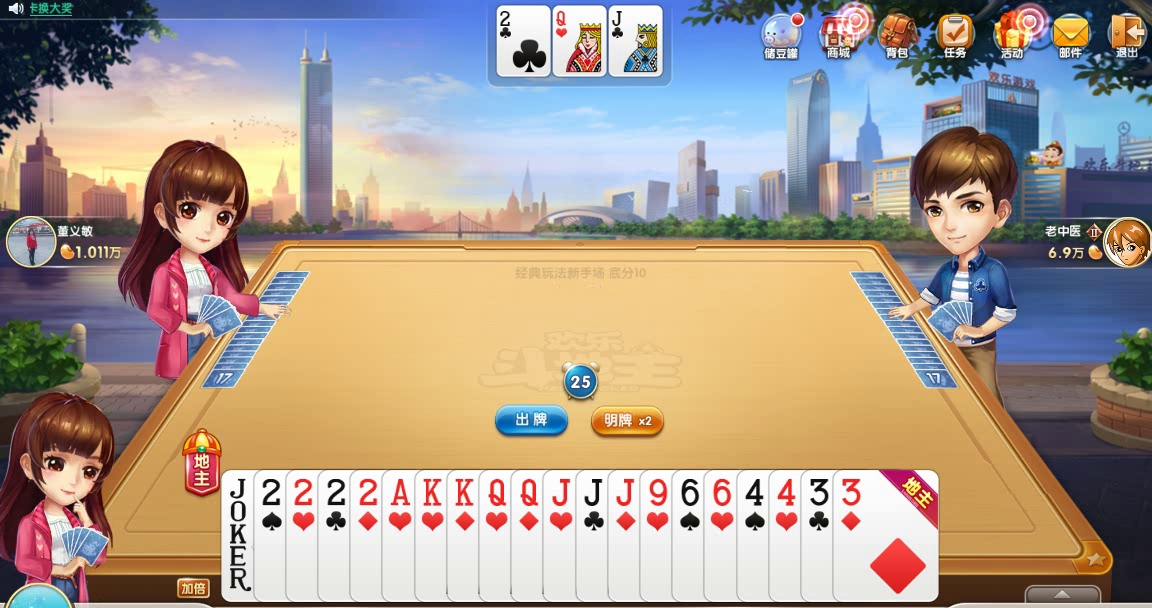11~1: (606, 468, 716, 603)
11~2: (574, 468, 684, 603), (608, 3, 663, 76)
11~3: (540, 469, 650, 604)
12~1: (510, 468, 620, 603)
12~3: (478, 468, 588, 603), (553, 5, 608, 78)
13~1: (446, 468, 556, 603)
13~3: (413, 468, 523, 603)
14~3: (380, 468, 490, 603)
15~1: (348, 468, 458, 603)
15~2: (316, 468, 426, 603), (496, 4, 551, 77)
15~3: (283, 468, 393, 603)
15~4: (251, 468, 361, 603)
17~3: (220, 469, 330, 604)
3~1: (831, 469, 941, 604)
3~2: (800, 468, 910, 603)
4~3: (767, 468, 877, 603)
4~4: (735, 468, 845, 603)
6~3: (702, 468, 812, 603)
6~4: (670, 468, 780, 603)
9~3: (638, 468, 748, 603)
